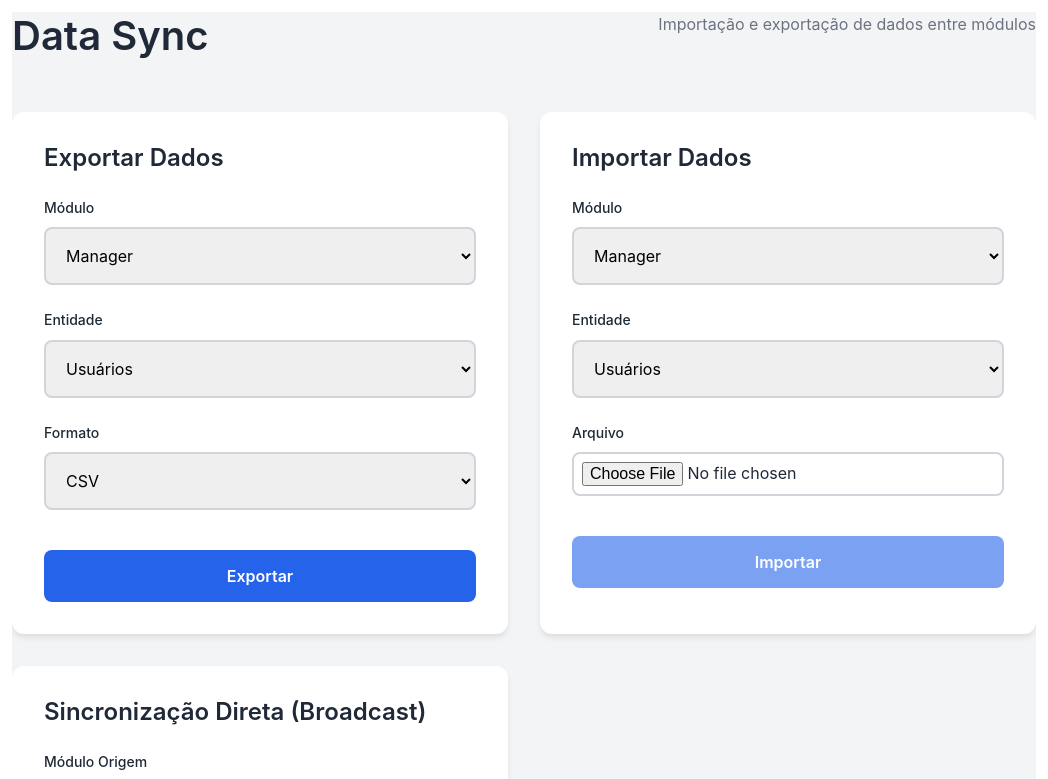
it: DataSync Component Basic Tests › should show error message when export fails
Click the button "Exportar": point(260, 576) [44, 550, 476, 602]
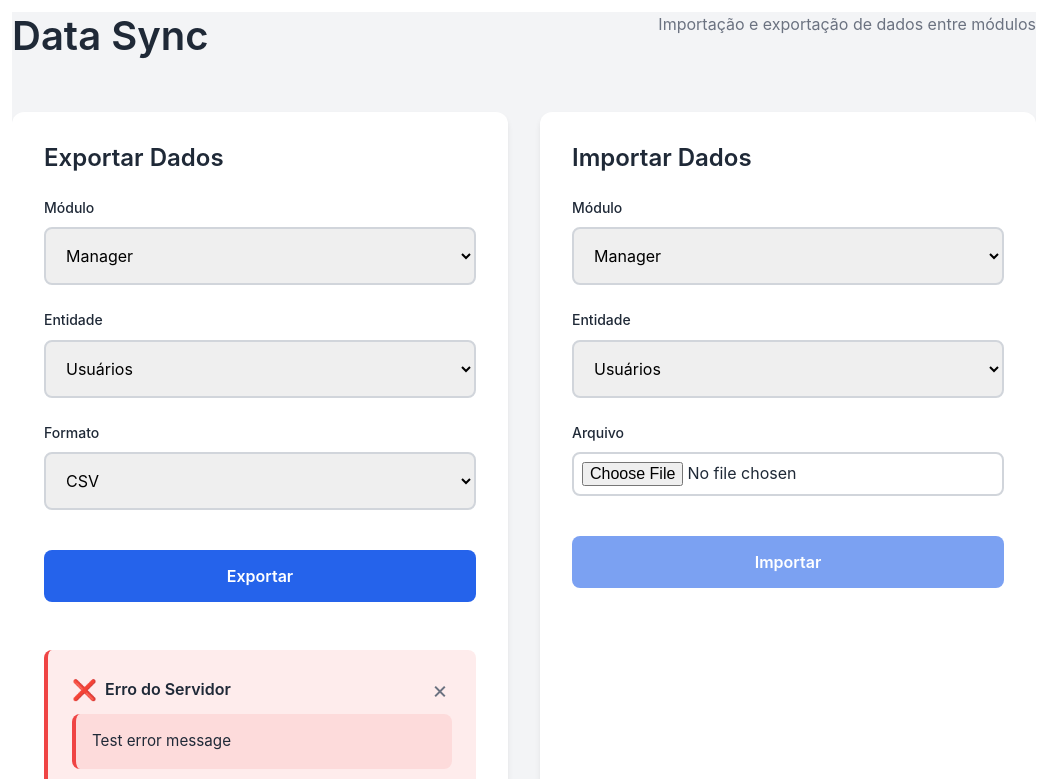
Result: the text "Test error message" is shown at [72, 714, 452, 769]
